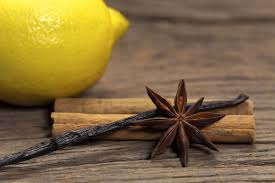lemon: (1, 1, 132, 103)
